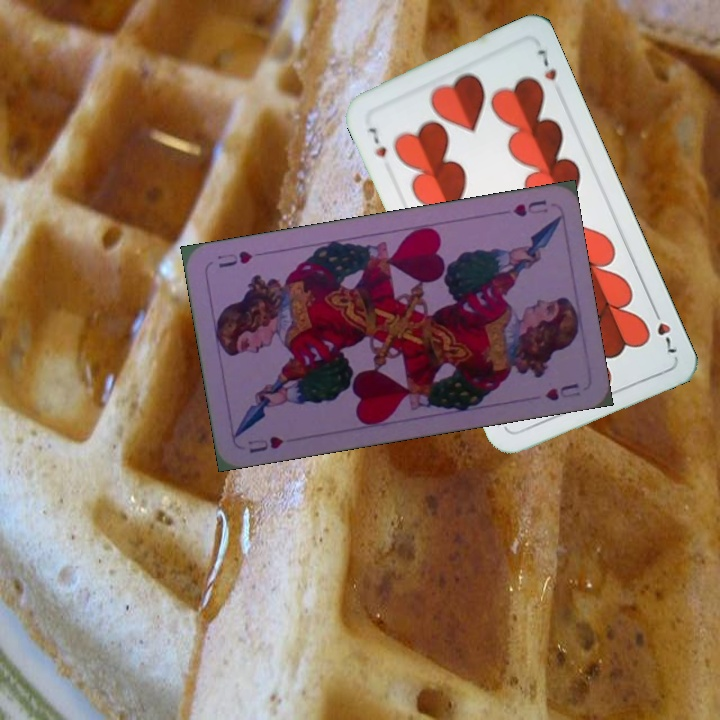H7: (648, 303, 680, 358), (364, 123, 389, 160)
HU: (244, 432, 286, 456), (509, 196, 551, 219)
